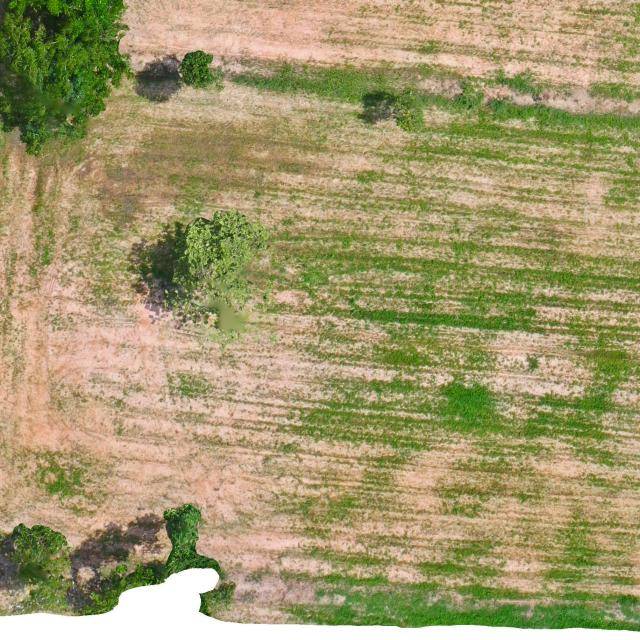Tree: (0, 0, 133, 156), (170, 208, 271, 337), (9, 521, 73, 602), (389, 90, 426, 138), (176, 49, 220, 89)
